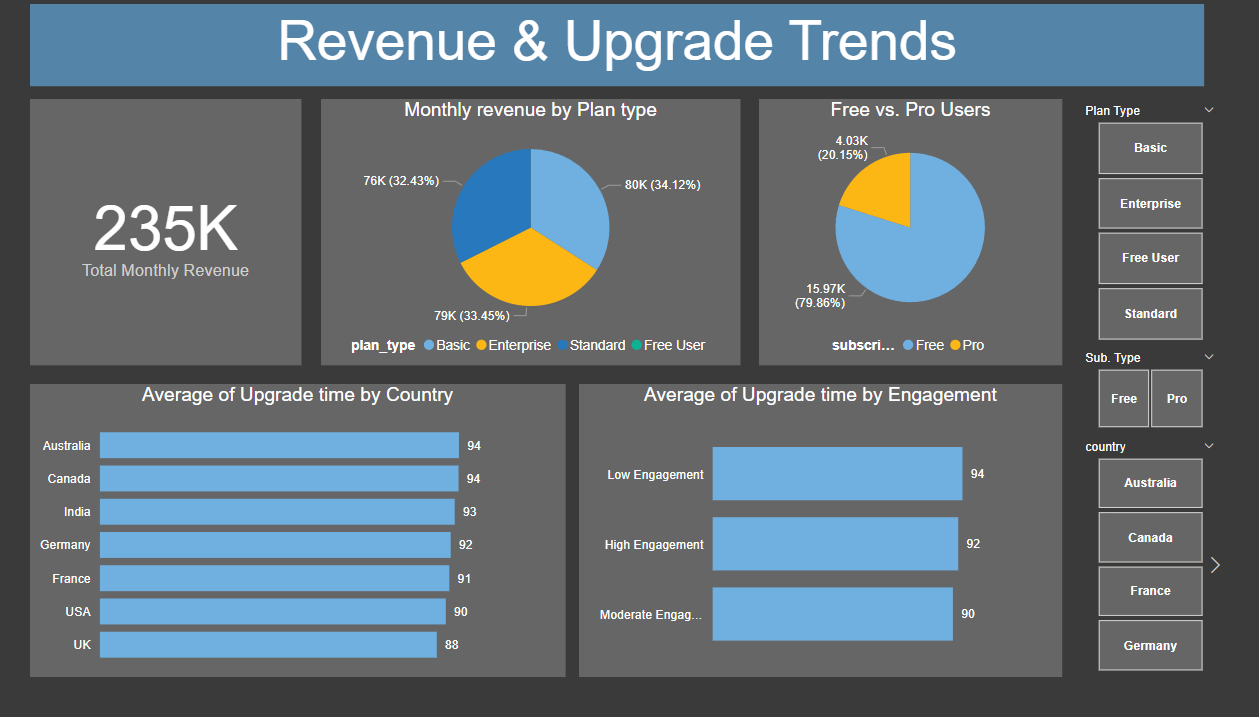

What the dashboard file says about the page in this screenshot:
{"tool":"powerbi","page":{"name":"Revenue & Upgrade Trends","canvas":[1280,720],"ordinal":0},"visuals":[{"type":"pieChart","title":"Free vs. Pro Users","fields":{"Category":["wppool_growth_data_sample_20k.subscription_type"],"Y":["CountNonNull(wppool_growth_data_sample_20k.user_id)"]},"box":[762.4,100.9,294.8,258.8],"z":0},{"type":"pieChart","title":"Monthly revenue by Plan type","fields":{"Y":["Sum(wppool_growth_data_sample_20k.monthly_revenue)"],"Category":["wppool_growth_data_sample_20k.plan_type"]},"box":[336.7,100.9,407.7,258.8],"z":1000},{"type":"card","fields":{"Values":["Sum(wppool_growth_data_sample_20k.monthly_revenue)"]},"box":[54,100.9,263.8,258.8],"z":2000},{"type":"barChart","title":"Average of Upgrade time by Country","fields":{"Category":["wppool_growth_data_sample_20k.country"],"Y":["Avg(wppool_growth_data_sample_20k.Upgrade_time)"]},"box":[54,378.7,520.6,284.8],"z":3000},{"type":"barChart","title":"Average of Upgrade time by Engagement","fields":{"Y":["Avg(wppool_growth_data_sample_20k.Upgrade_time)"],"Category":["wppool_growth_data_sample_20k.Engagement"]},"box":[587.5,378.7,469.6,284.8],"z":4000},{"type":"textbox","box":[54,9,1142.1,79.9],"z":5000},{"type":"slicer","fields":{"Values":["wppool_growth_data_sample_20k.plan_type"]},"box":[1067.2,100.9,150.9,240.8],"z":6000},{"type":"slicer","fields":{"Values":["wppool_growth_data_sample_20k.subscription_type"]},"box":[1067.2,341.7,150.9,85.9],"z":7000},{"type":"slicer","fields":{"Values":["wppool_growth_data_sample_20k.country"]},"box":[1067.2,427.7,150.9,235.8],"z":8000}]}

Visuals, with their boxes in screenshot pixels (x1, y1, x2, y2), scaled from the page's 1280x720 canvas onto the 1259x717 screenshot:
"Free vs. Pro Users" pieChart: {"x1": 750, "y1": 100, "x2": 1040, "y2": 358}
"Monthly revenue by Plan type" pieChart: {"x1": 331, "y1": 100, "x2": 732, "y2": 358}
card - Sum(wppool_growth_data_sample_20k.monthly_revenue): {"x1": 53, "y1": 100, "x2": 313, "y2": 358}
"Average of Upgrade time by Country" barChart: {"x1": 53, "y1": 377, "x2": 565, "y2": 661}
"Average of Upgrade time by Engagement" barChart: {"x1": 578, "y1": 377, "x2": 1040, "y2": 661}
textbox: {"x1": 53, "y1": 9, "x2": 1176, "y2": 89}
slicer - wppool_growth_data_sample_20k.plan_type: {"x1": 1050, "y1": 100, "x2": 1198, "y2": 340}
slicer - wppool_growth_data_sample_20k.subscription_type: {"x1": 1050, "y1": 340, "x2": 1198, "y2": 426}
slicer - wppool_growth_data_sample_20k.country: {"x1": 1050, "y1": 426, "x2": 1198, "y2": 661}
